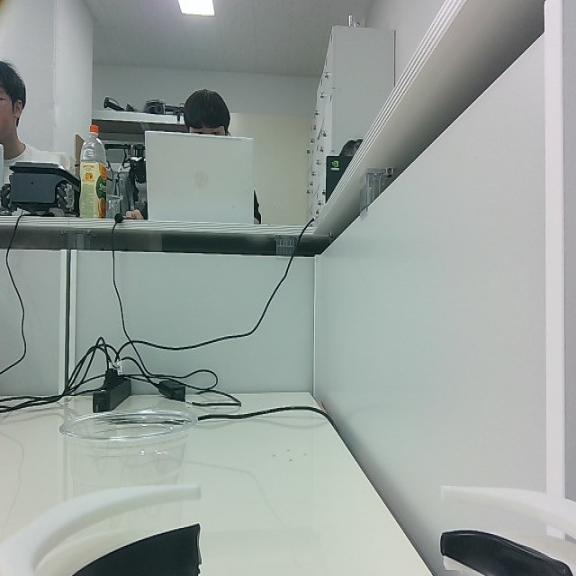Plastik: (65, 408, 197, 501)
